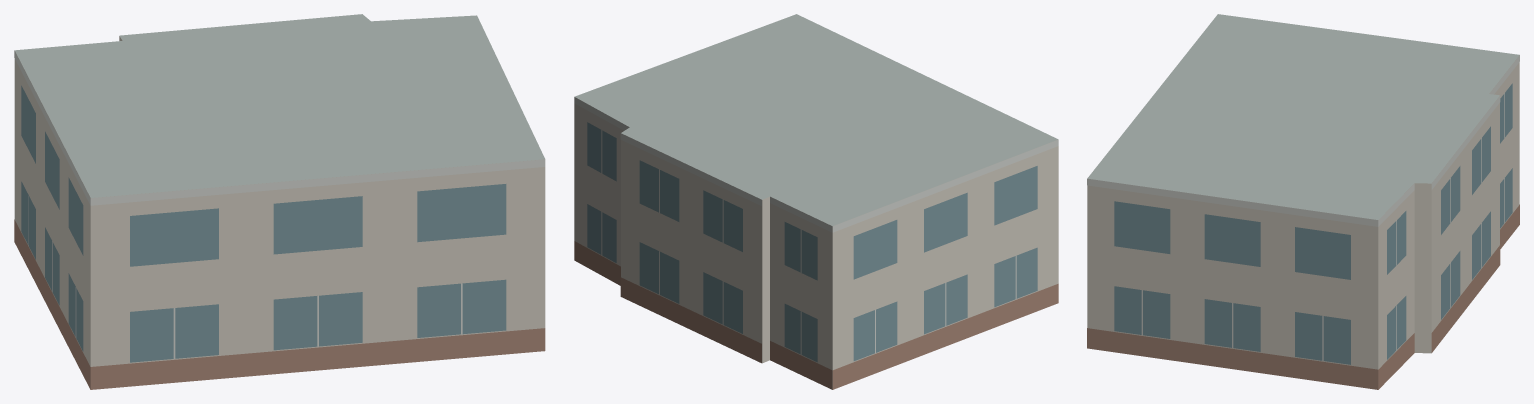
Rendered from survey-upis-32912575.glb.
3 renders of one model, left to right at view 1: azimuth 30°, elevation 25°; view 2: azimuth 150°, elevation 25°; view 3: azimuth 270°, elevation 25°, orthographic. The views are drawn at different scales.
Parts seen in each view (by area): view 1: survey-upis-32912575.tmp; view 2: survey-upis-32912575.tmp; view 3: survey-upis-32912575.tmp.
Part boxes in pixels (<box>): survey-upis-32912575.tmp: <box>14,14,545,389</box>; survey-upis-32912575.tmp: <box>574,14,1058,389</box>; survey-upis-32912575.tmp: <box>1087,14,1519,389</box>.
Bounding box in the file's own units: 15.89 × 6.1 × 14.1.
